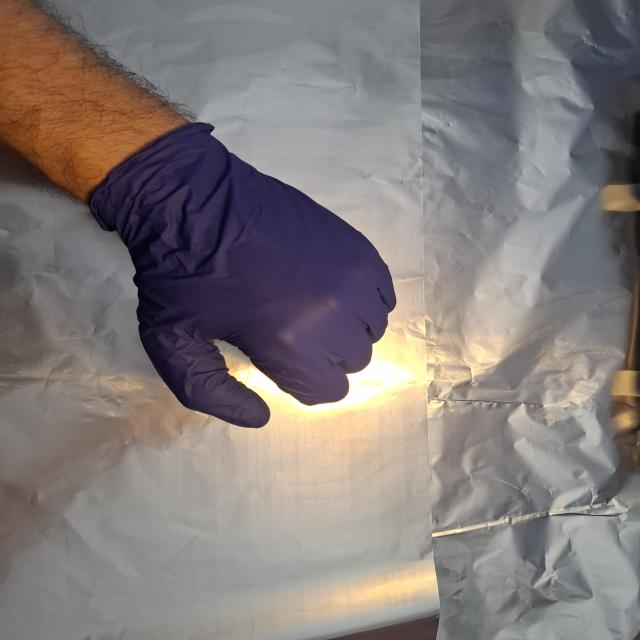glove_on: (88, 120, 401, 431)
